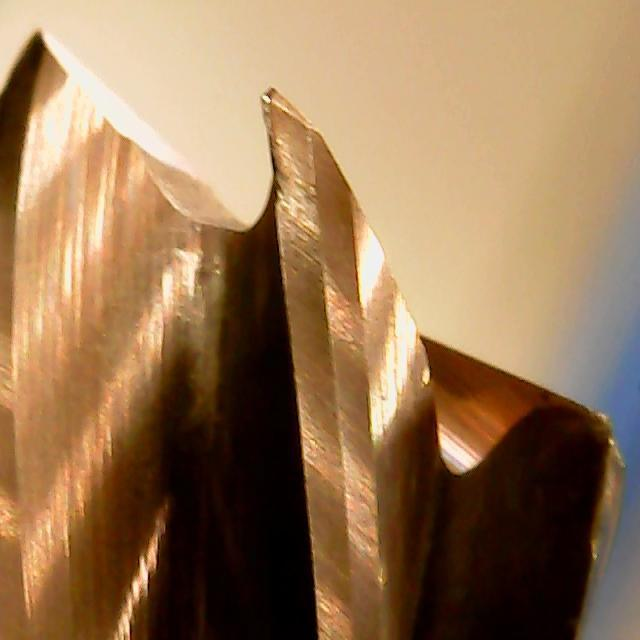Tool-wear-class-1: (240, 80, 396, 410)
